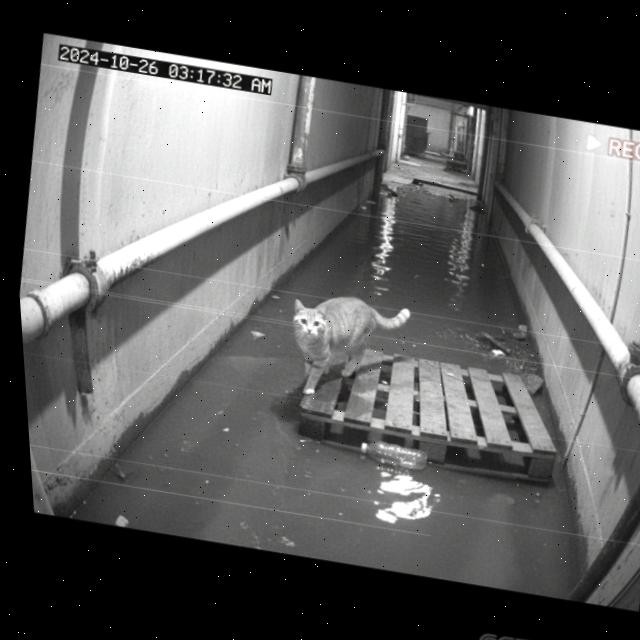cat: (269, 274, 422, 415)
